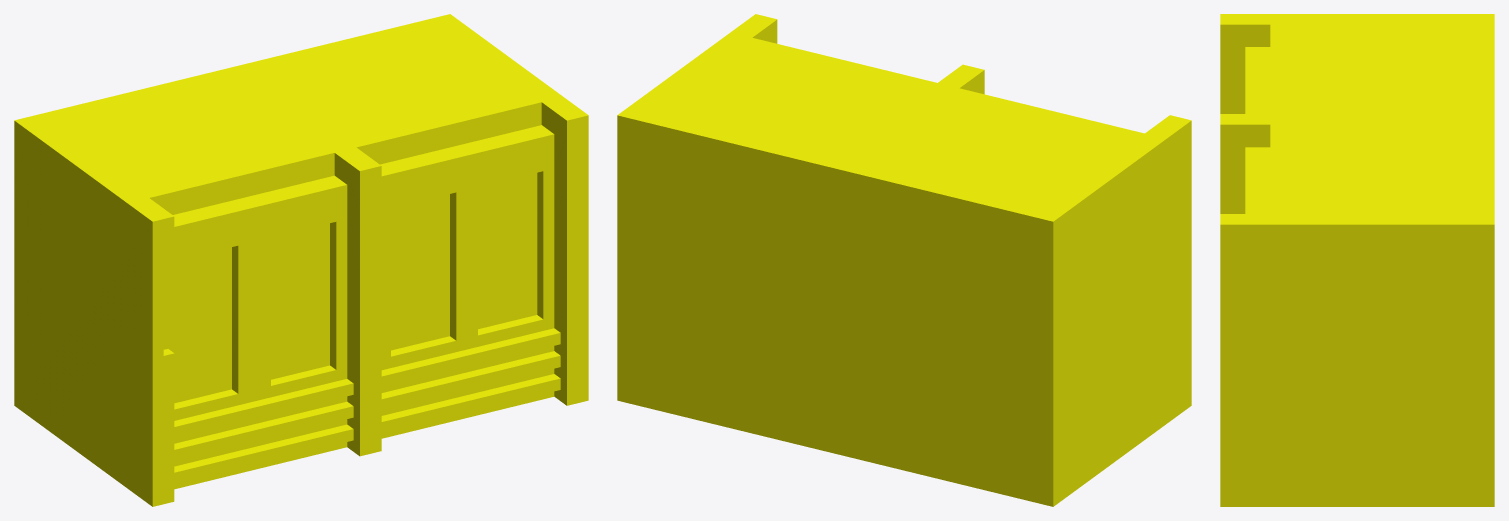
3 renders of one model, left to right at view 1: azimuth 30°, elevation 25°; view 2: azimuth 150°, elevation 25°; view 3: azimuth 270°, elevation 25°, orthographic.
Visible parts, largest first — view 1: BuildingBlock_18; view 2: BuildingBlock_18; view 3: BuildingBlock_18.
Part boxes in pixels (box(x1,y1,x2,y2)): BuildingBlock_18: box(14, 14, 588, 506); BuildingBlock_18: box(617, 14, 1191, 506); BuildingBlock_18: box(1220, 14, 1494, 506).
Bounding box in the file's own units: 4 × 2.5 × 2.2.
Materials: 1 (1 with a texture image).
